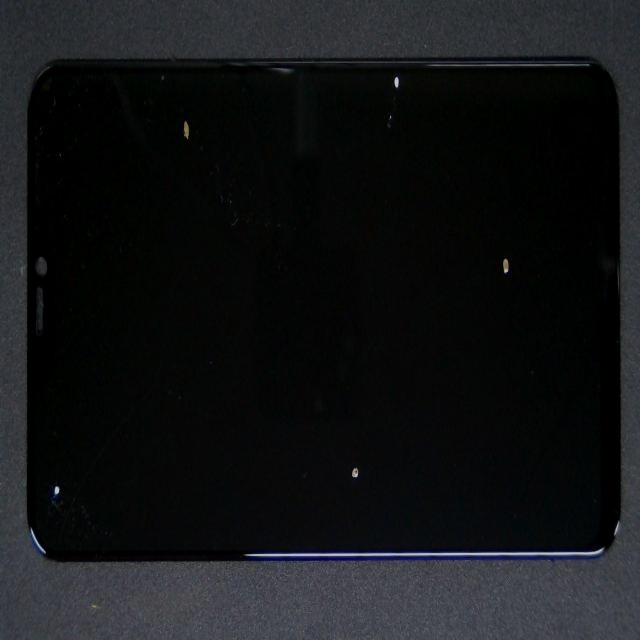stain: (190, 219, 521, 640), (260, 98, 640, 364), (161, 0, 568, 154), (0, 258, 89, 640), (83, 36, 261, 182)
